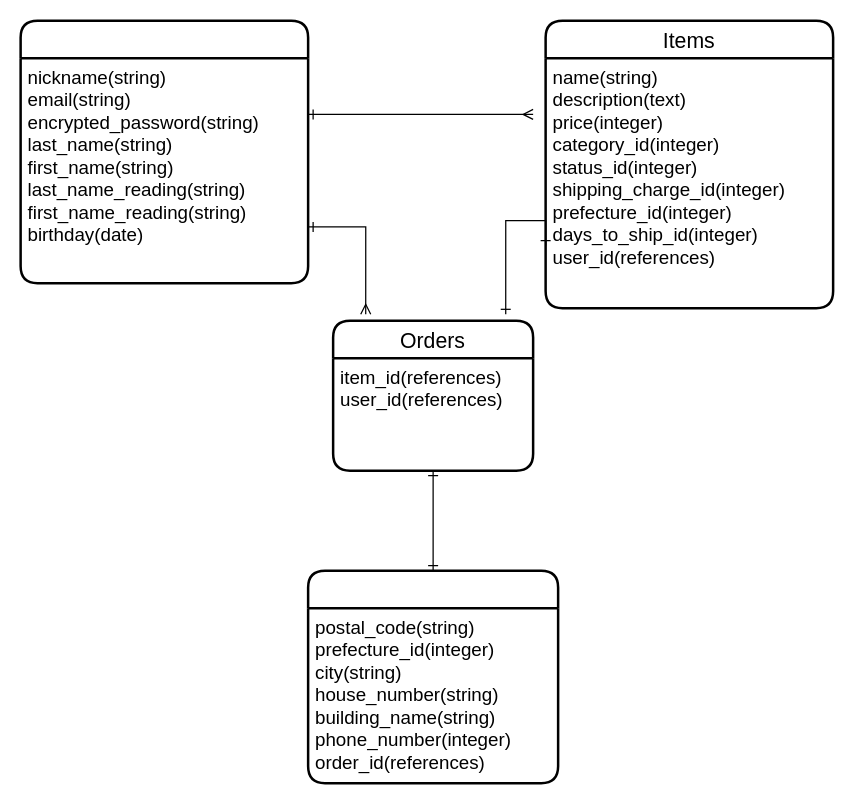
This 854x804 diagram has some shape labels left out. Here are the shapes that lost their labels. From the top down, the box of each, then its label:
(19, 19, 309, 284): Users
(306, 569, 559, 784): Shipping_addresses
